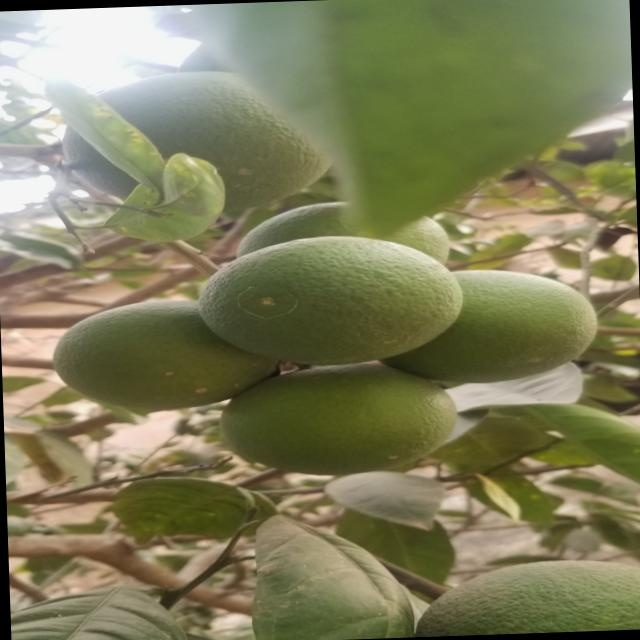agrume: (163, 226, 465, 371), (73, 66, 342, 210), (204, 356, 472, 480), (54, 294, 258, 407), (400, 264, 587, 386), (403, 551, 640, 637), (221, 194, 452, 281)
